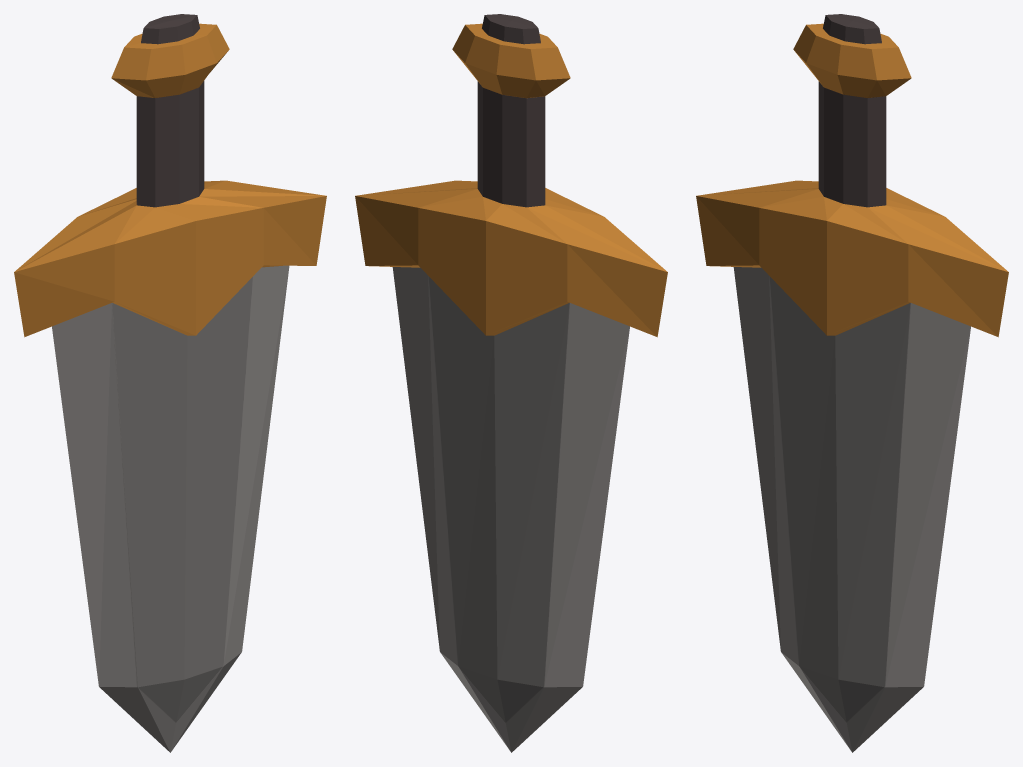
Rendered from Sword.fbx.
The picture shows the model from 3 angles, left to right: view 1: azimuth 30°, elevation 25°; view 2: azimuth 150°, elevation 25°; view 3: azimuth 330°, elevation 25°; orthographic projection.
Parts seen in each view (by area): view 1: Sword; view 2: Sword; view 3: Sword.
Boxes of the visible parts, box(x1,y1,x2,y2) form: Sword: box(14, 14, 326, 752); Sword: box(355, 14, 667, 752); Sword: box(696, 14, 1008, 752).
Size of the model in its own units: 392 by 875 by 111.
1 material, 1 textured.
